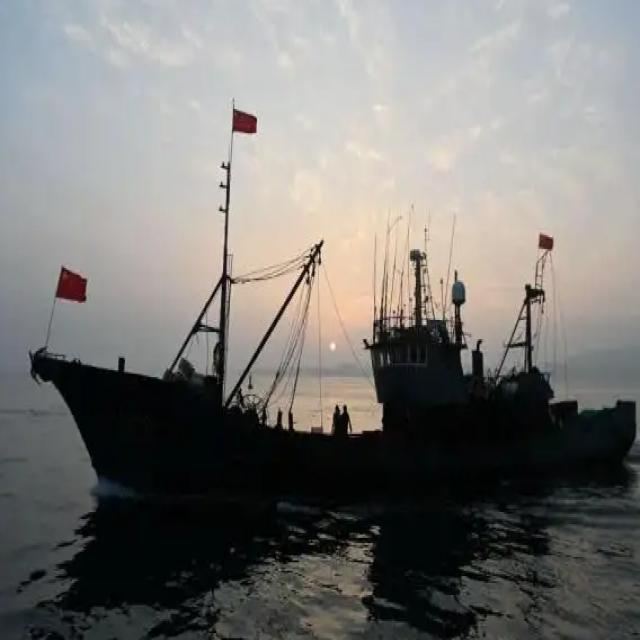fishing boat: (46, 101, 462, 504), (374, 225, 640, 476)
